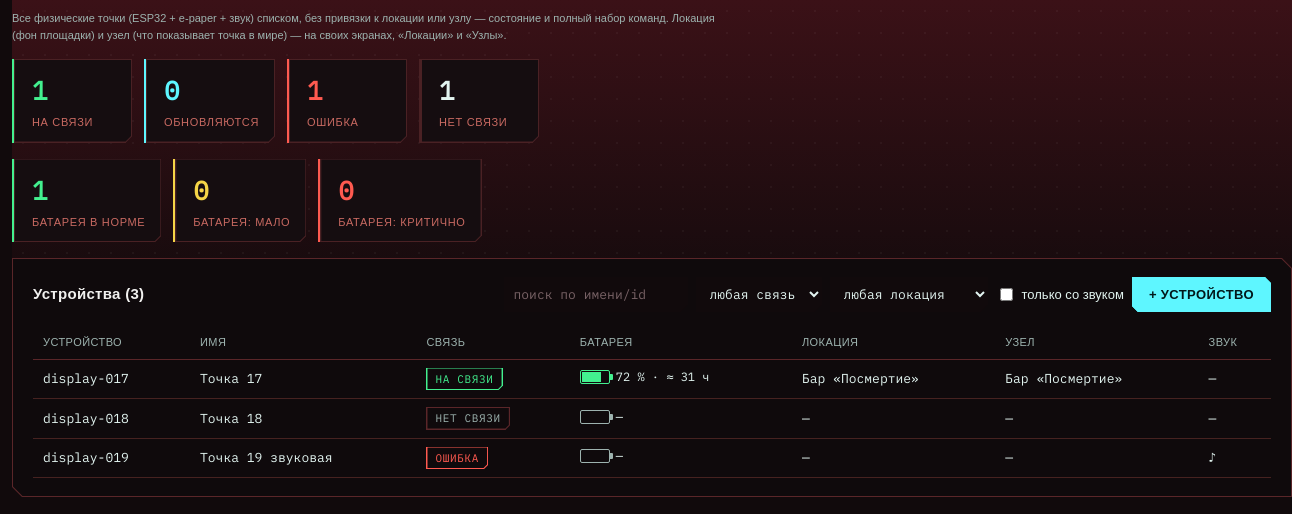
it: DevicesScreen › плоский список всех точек с локацией/узлом/звуком; фильтр по связи и поиск сужают список
expect the text "display-017" is shown: met, box [43, 370, 129, 387]
expect the text "display-018" is shown: met, box [43, 410, 129, 426]
Select "нет связи" in the dropdown named "фильтр по связи" at (758, 294), box [696, 277, 822, 312]
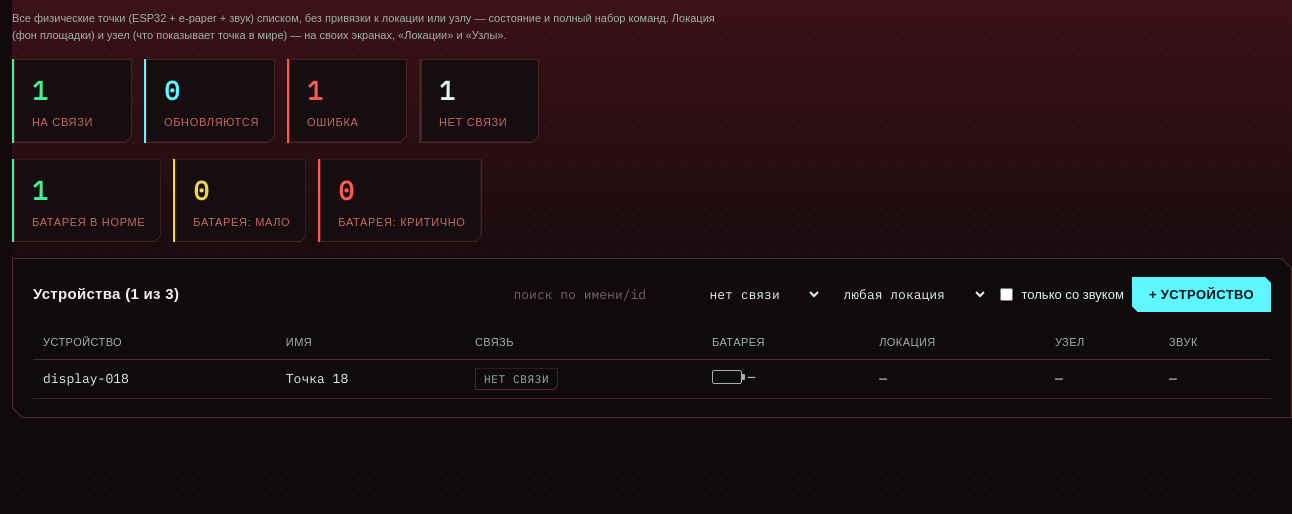
expect the text "display-018" is shown: met, box [43, 370, 129, 387]
expect the text "display-017" is gone: met
expect the heading "Устройства (1 из 3)" is shown: met, box [33, 283, 179, 306]
Select "любая связь" in the dropdown named "фильтр по связи" at (758, 294), box [696, 277, 822, 312]
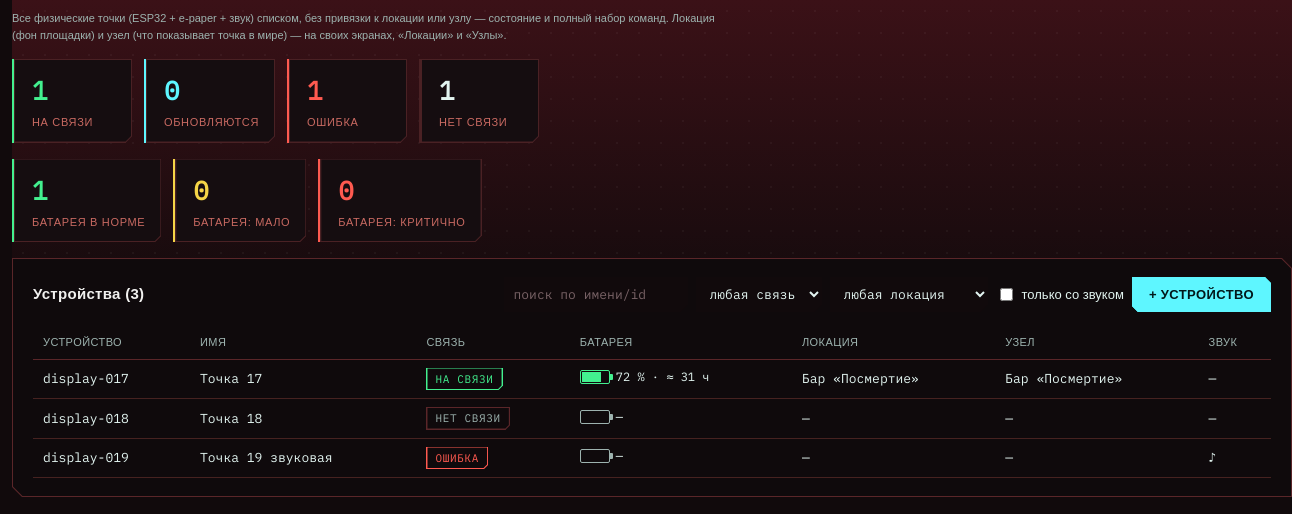
Type "звуковая" into the field with placeholder "поиск по имени/id" at (596, 294), box [504, 277, 688, 312]
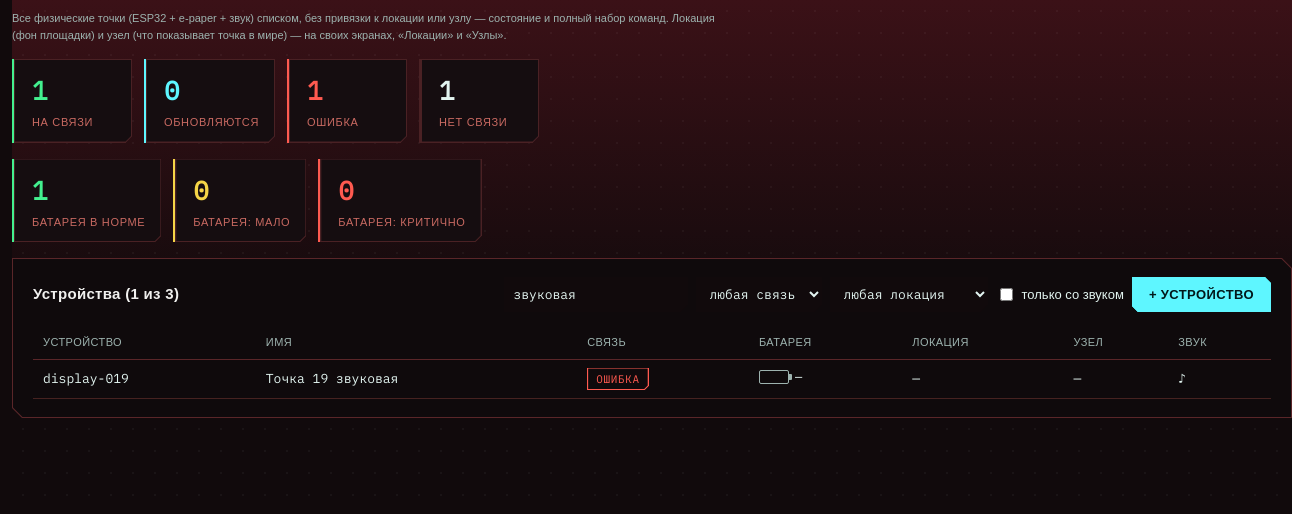
expect the text "display-019" is shown: met, box [43, 370, 129, 387]
expect the text "display-017" is gone: met
